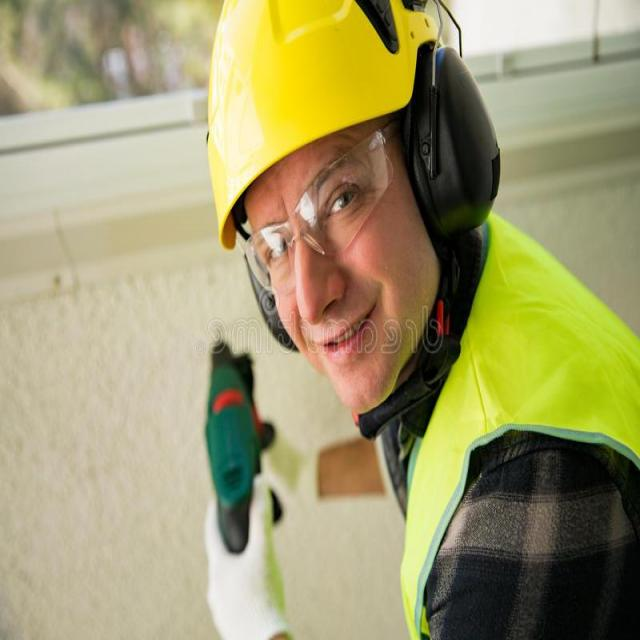Reflective-Jacket: (384, 240, 639, 634)
Safety-Helmet: (204, 7, 451, 227)
